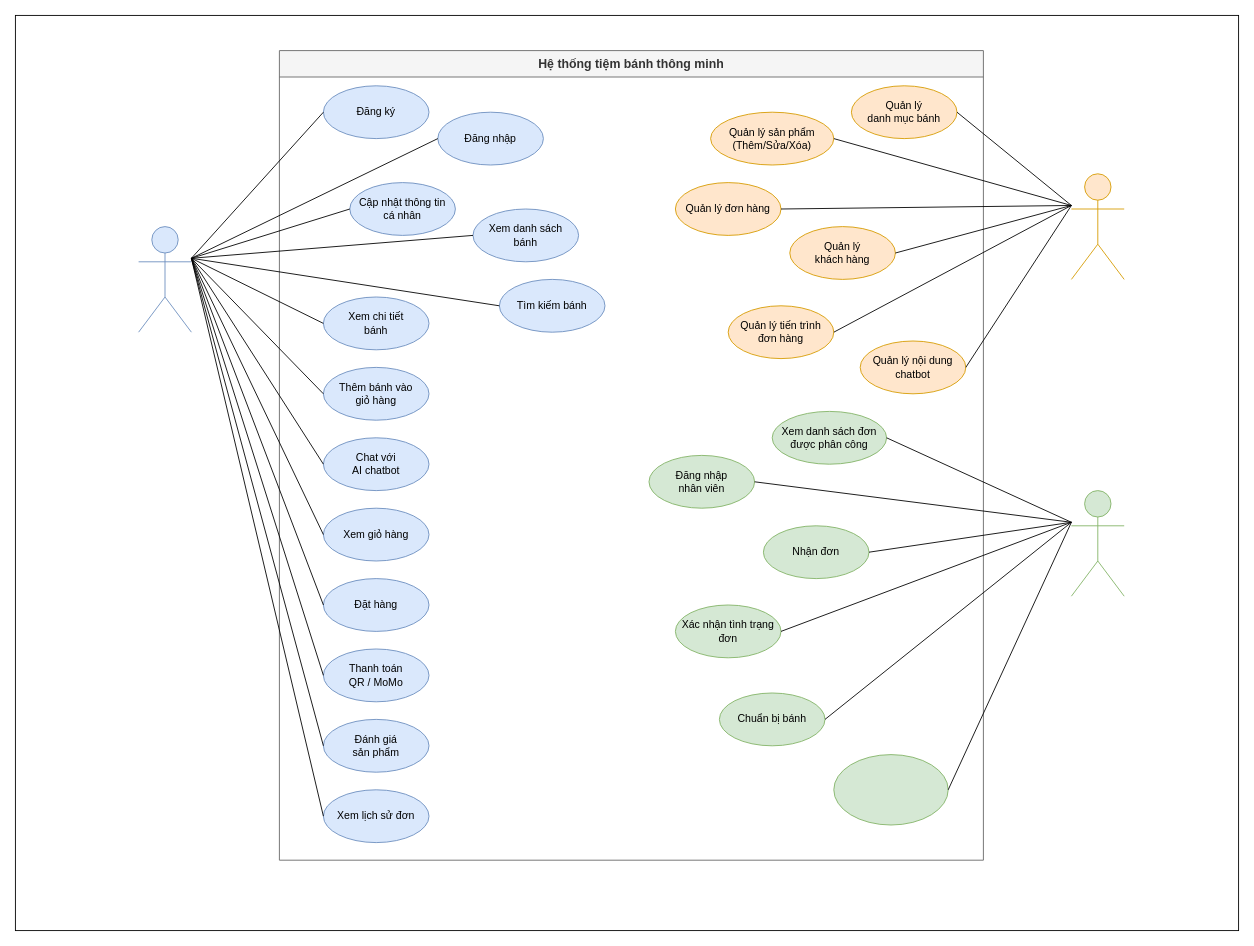
The diagram is 1254 pixels wide and 946 high, and some of its shapes have lost their labels. The shapes that lost their labels are listed below. From the top down, each one's centre as x and y in pixels, then its label:
At (1097,226): "Quan tri vien".
At (164,279): "Khách hàng".
At (1097,543): "Nhân viên".
At (890,789): "Quản lý sản phẩm hạn chế (cập nhật tồn kho)".
